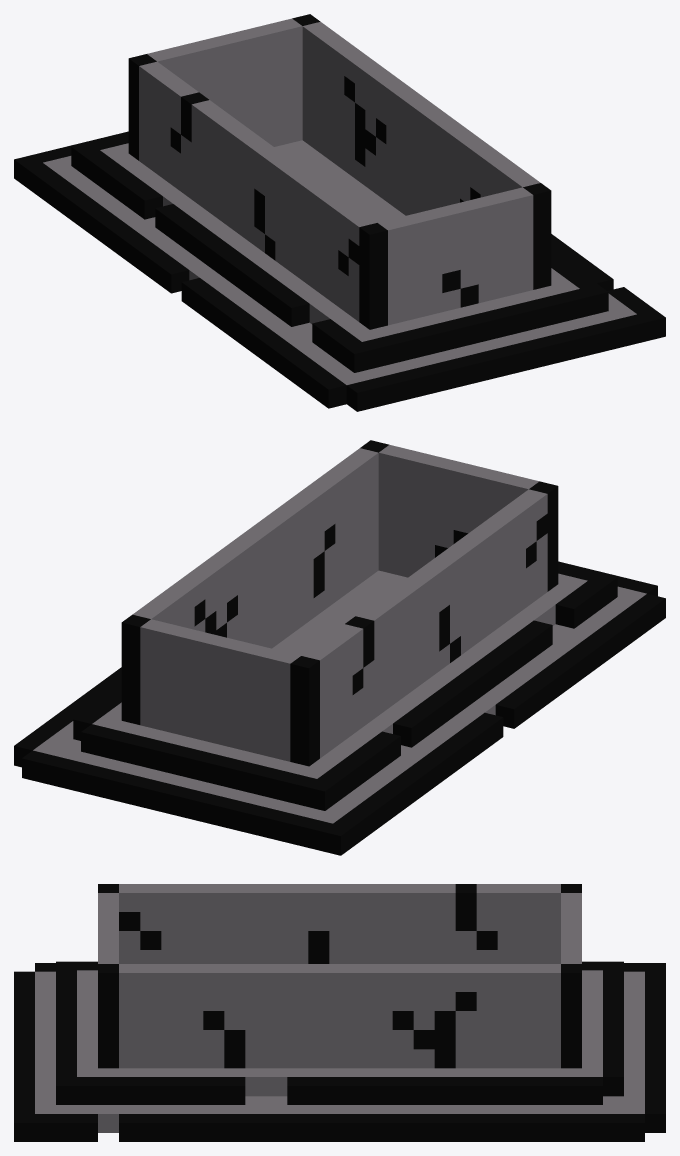
The model's file is church-67-crypt.glb.
3 views of the same model, one above another, from view 1: azimuth 30°, elevation 25°; view 2: azimuth 150°, elevation 25°; view 3: azimuth 270°, elevation 25° (orthographic). The views are drawn at different scales.
Parts seen in each view (by area): view 1: crypt; view 2: crypt; view 3: crypt.
Part boxes in pixels (<box>): crypt: <box>14,14,665,411</box>; crypt: <box>14,440,665,855</box>; crypt: <box>14,884,665,1141</box>.
Bounding box in the file's own units: 1.8 × 0.7 × 3.1.
1 material, 1 textured.
